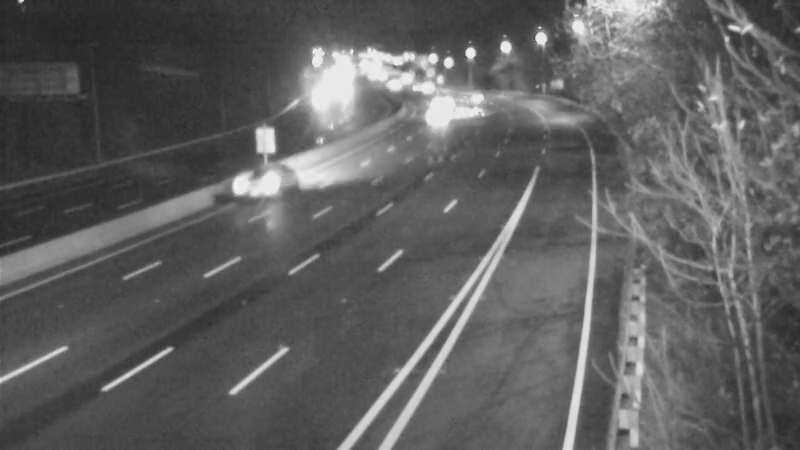vehicle: (217, 151, 297, 231), (419, 75, 469, 125), (409, 88, 459, 138), (297, 70, 347, 120)
